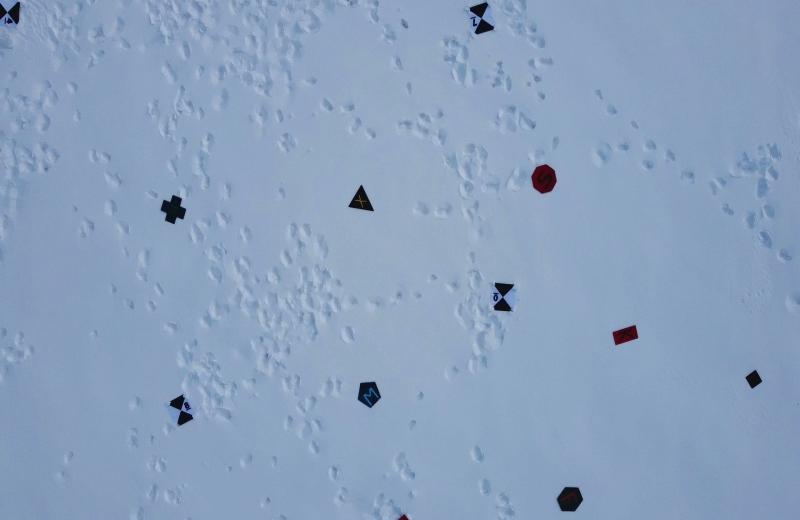Cross: (157, 192, 189, 226)
Hexagon: (552, 480, 583, 516)
Octagon: (530, 163, 561, 201)
Pentagon: (356, 378, 385, 412)
Rectangle: (610, 318, 642, 352)
Square: (738, 369, 762, 393)
Triangle: (343, 185, 376, 219)
